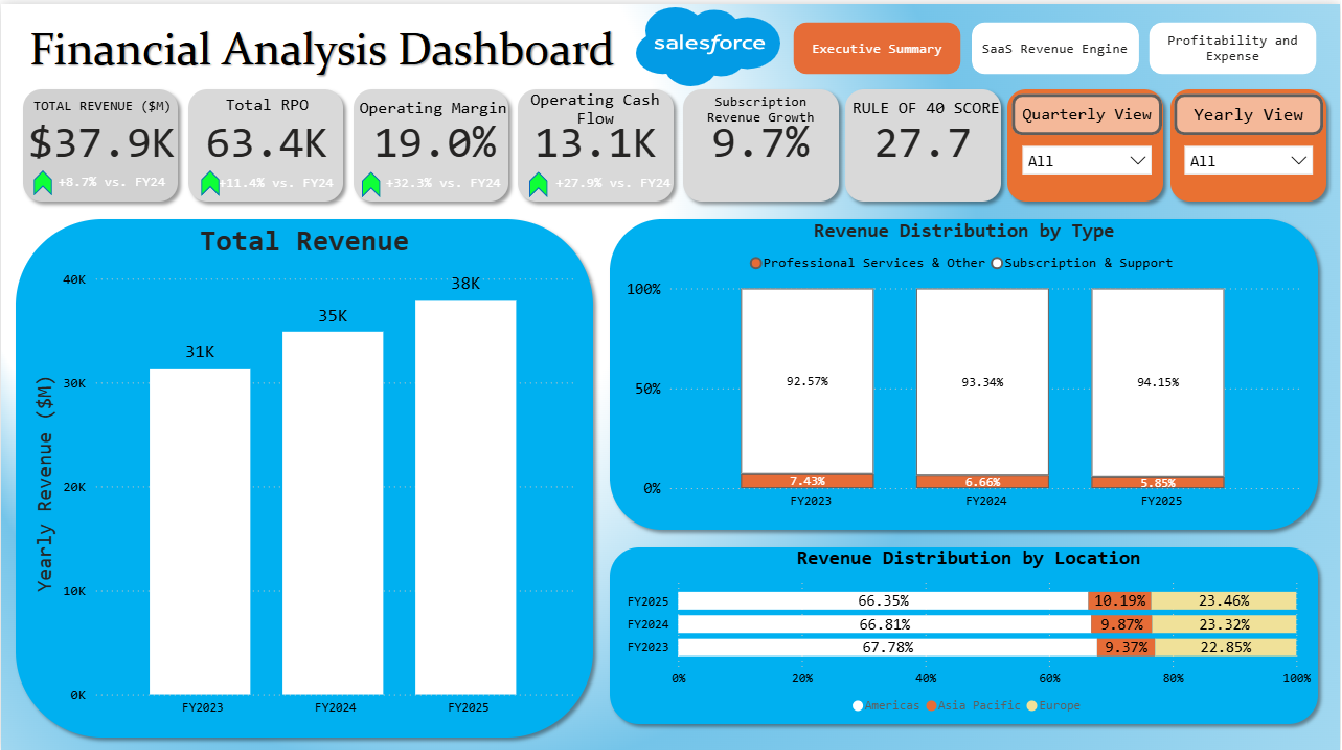

This screenshot's page, from the dashboard's own definition file:
{"tool":"powerbi","page":{"name":"Executive Summary","canvas":[1280,720],"ordinal":0},"visuals":[{"type":"hundredPercentStackedColumnChart","title":"Revenue Distribution by Type","fields":{"Category":["Qdata.Period"],"Y":["Sum(Qdata.ProfessionalServicesRevenue (millions USD))","Sum(Qdata.SubscriptionRevenue (millions USD))"]},"box":[592,208,656,288],"z":0},{"type":"hundredPercentStackedBarChart","title":"Revenue Distribution by Location","fields":{"Category":["Qdata.Period"],"Y":["Sum(Qdata.Revenue_Americas (millions USD))","Sum(Qdata.Revenue_APAC (millions USD))","Sum(Qdata.Revenue_Europe (millions USD))"]},"box":[592.5,522.5,665,171.2],"z":1000},{"type":"lineStackedColumnComboChart","title":"Total Revenue","fields":{"Category":["Qdata.Period"],"Y":["Sum(Qdata.TotalRevenue (millions USD))"],"Y2":["Sum(Total Revenue.Adjusted Rev)","Sum(Total Revenue.Adjusted RPO)"]},"box":[26.2,210,527.5,483.8],"z":2000},{"type":"slicer","fields":{"Values":["Qdata.Period"]},"box":[966.2,126.2,143.8,47.5],"z":3000},{"type":"actionButton","box":[966.2,86.2,143.8,40],"z":4000},{"type":"actionButton","box":[1121.2,86.2,143,40],"z":5000},{"type":"slicer","fields":{"Values":["FYdata.Period"]},"box":[1121.2,126.2,142.5,47.5],"z":9000},{"type":"card","fields":{"Values":["FYdata.Total Revenue (FY25)"]},"box":[18.8,106.2,156.2,47.5],"z":10000},{"type":"card","fields":{"Values":["FYdata.Total RPO (FY25)"]},"box":[182.5,106.2,143.8,47.5],"z":11000},{"type":"card","fields":{"Values":["FYdata.Operating Margin % (FY25)"]},"box":[343.8,106.2,142.5,47.5],"z":12000},{"type":"card","fields":{"Values":["FYdata.Operating Cash Flow (FY25)"]},"box":[497.5,106.2,142.5,47.5],"z":13000},{"type":"card","fields":{"Values":["FYdata.Subscription Revenue YoY Growth"]},"box":[655,106.2,142.5,47.5],"z":14000},{"type":"card","fields":{"Values":["FYdata.Rule of 40 Score (FY25)"]},"box":[810,106.2,142.5,47.5],"z":15000},{"type":"shape","box":[18.8,80,156.2,35.6],"z":16000},{"type":"shape","box":[191.2,67.5,126.2,58.8],"z":17000},{"type":"shape","box":[340,71.2,146.2,57.5],"z":18000},{"type":"shape","box":[505,71.2,126.2,58.8],"z":19000},{"type":"shape","box":[655,71.2,142.5,58.8],"z":20000},{"type":"shape","box":[810,70,148.8,60],"z":21000},{"type":"pageNavigator","box":[757.5,17.5,500,50],"z":22000},{"type":"shape","box":[30.6,160,17.5,24.4],"z":23000},{"type":"card","fields":{"Values":["FYdata.Revenue Growth Text"]},"box":[48,155.3,117.3,36],"z":24000},{"type":"card","fields":{"Values":["FYdata.RPO Growth Text"]},"box":[200,155,126.2,36.2],"z":25000},{"type":"shape","box":[191.2,160,17.5,25],"z":26000},{"type":"card","fields":{"Values":["FYdata.Op Cash Flow Text"]},"box":[522.5,155,126.2,36.2],"z":27000},{"type":"shape","box":[505,161.2,17.5,25],"z":28000},{"type":"card","fields":{"Values":["FYdata.Op Margin% Text"]},"box":[360,155,126.2,36.2],"z":29000},{"type":"shape","box":[345,161.2,17.5,25],"z":30000}]}

Visuals, with their boxes in screenshot pixels (x1, y1, x2, y2), scaled from the page's 1280x720 canvas onto the 1342x750 screenshot:
"Revenue Distribution by Type" hundredPercentStackedColumnChart: Rect(621, 217, 1308, 517)
"Revenue Distribution by Location" hundredPercentStackedBarChart: Rect(621, 544, 1318, 723)
"Total Revenue" lineStackedColumnComboChart: Rect(27, 219, 581, 723)
slicer - Qdata.Period: Rect(1013, 131, 1164, 181)
actionButton: Rect(1013, 90, 1164, 131)
actionButton: Rect(1176, 90, 1325, 131)
slicer - FYdata.Period: Rect(1176, 131, 1325, 181)
card - FYdata.Total Revenue (FY25): Rect(20, 111, 183, 160)
card - FYdata.Total RPO (FY25): Rect(191, 111, 342, 160)
card - FYdata.Operating Margin % (FY25): Rect(360, 111, 510, 160)
card - FYdata.Operating Cash Flow (FY25): Rect(522, 111, 671, 160)
card - FYdata.Subscription Revenue YoY Growth: Rect(687, 111, 836, 160)
card - FYdata.Rule of 40 Score (FY25): Rect(849, 111, 999, 160)
shape: Rect(20, 83, 183, 120)
shape: Rect(200, 70, 333, 132)
shape: Rect(356, 74, 510, 134)
shape: Rect(529, 74, 662, 135)
shape: Rect(687, 74, 836, 135)
shape: Rect(849, 73, 1005, 135)
pageNavigator: Rect(794, 18, 1318, 70)
shape: Rect(32, 167, 50, 192)
card - FYdata.Revenue Growth Text: Rect(50, 162, 173, 199)
card - FYdata.RPO Growth Text: Rect(210, 161, 342, 199)
shape: Rect(200, 167, 219, 193)
card - FYdata.Op Cash Flow Text: Rect(548, 161, 680, 199)
shape: Rect(529, 168, 548, 194)
card - FYdata.Op Margin% Text: Rect(377, 161, 510, 199)
shape: Rect(362, 168, 380, 194)
